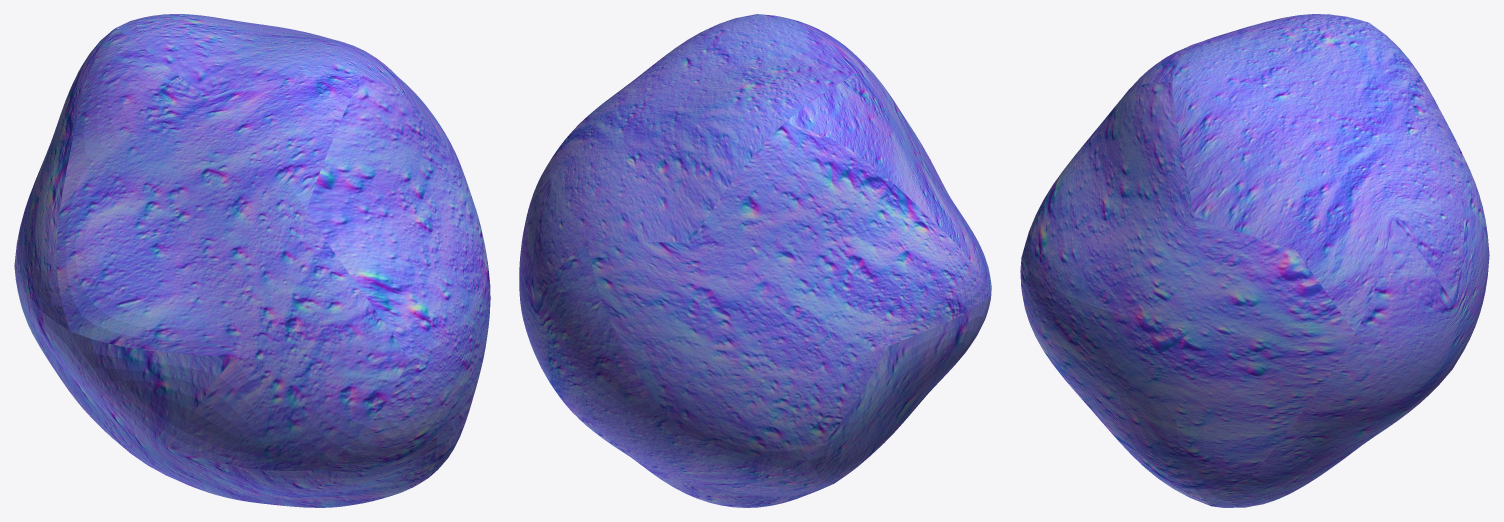
Rendered from bigasteroid1_LOD1.fbx.
3 renders of one model, left to right at view 1: azimuth 30°, elevation 25°; view 2: azimuth 150°, elevation 25°; view 3: azimuth 270°, elevation 25°, orthographic. The views are drawn at different scales.
Parts seen in each view (by area): view 1: Icosphere; view 2: Icosphere; view 3: Icosphere.
Boxes of the visible parts, box(x1,y1,x2,y2) form: Icosphere: box(14, 14, 490, 507); Icosphere: box(519, 14, 991, 507); Icosphere: box(1020, 14, 1489, 507).
Size of the model in its own units: 210 by 224 by 225.
